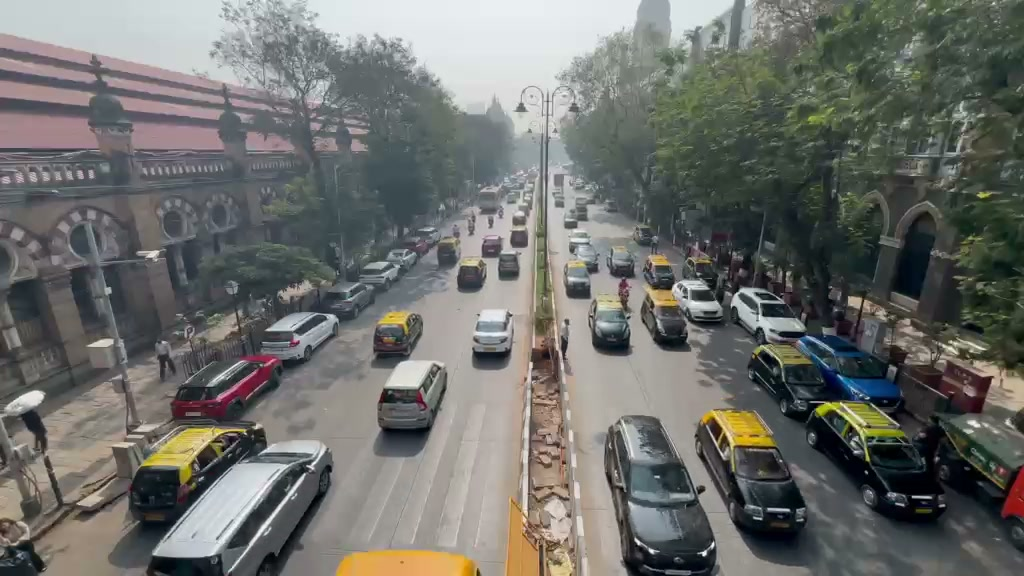car: (145, 439, 335, 574), (603, 414, 718, 573), (693, 407, 808, 538), (128, 420, 269, 523), (745, 339, 883, 420), (797, 334, 905, 413), (170, 353, 283, 421), (375, 359, 449, 432), (257, 310, 339, 365), (731, 287, 809, 343), (372, 309, 424, 360), (314, 279, 376, 321), (640, 296, 691, 346), (672, 279, 724, 325), (588, 298, 632, 350), (471, 307, 515, 356), (359, 259, 400, 285), (564, 259, 591, 298), (385, 246, 418, 271), (498, 252, 521, 280), (481, 234, 502, 257)
pedestrian: (156, 336, 175, 380)
truck: (804, 399, 948, 521), (933, 406, 1024, 550)
